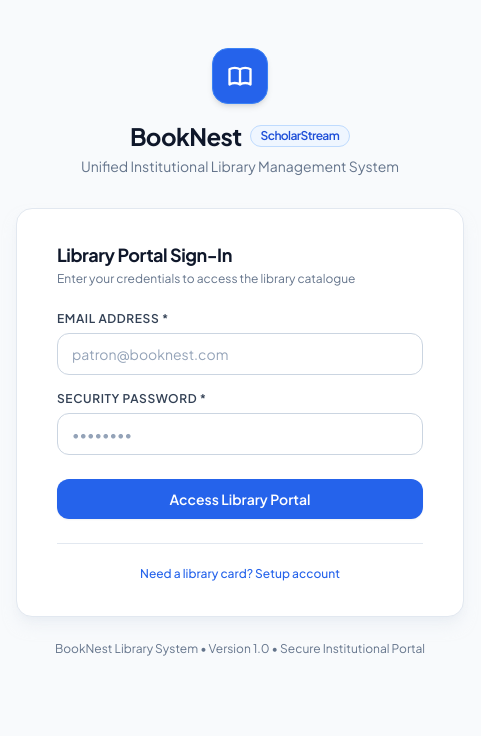
Test: BookNest Frontend Consistency & CRUD Enforcement › T04 — Role selection available in registration mode
The width and height of the screenshot is (481, 736).
Click the button "Need a library card? Setup account": (240, 574) [140,566,340,582]
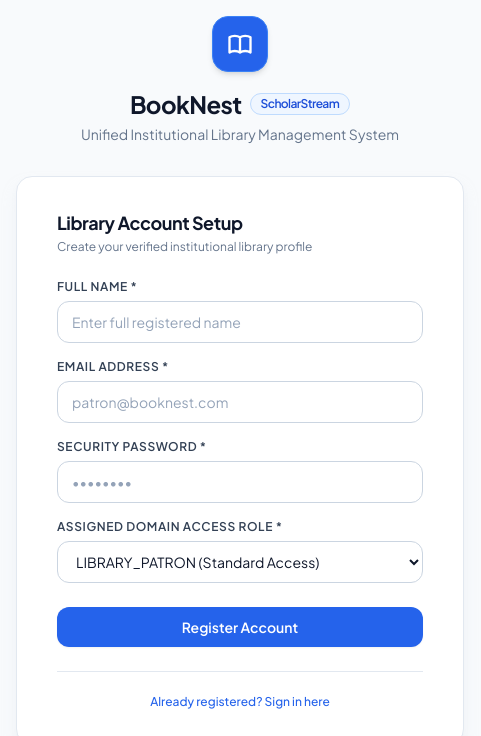
Now the text "Assigned Domain Access Role *" is shown, box [57,519,282,534]
